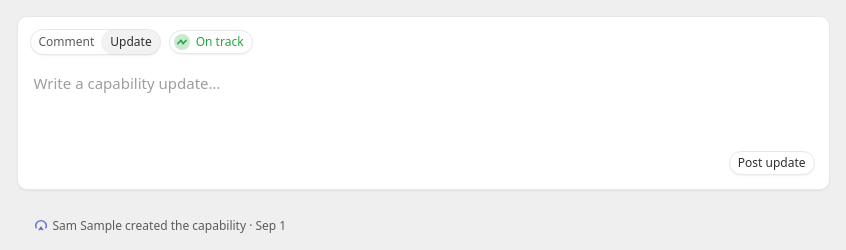
Scenario: a capability's placeholder is 'Write a capability update…'
Check: the text box labelled "capability update" is shown, box [18,67,828,137]
Click the tab "Comment" at coordinates (66, 42), box [30,30,102,54]
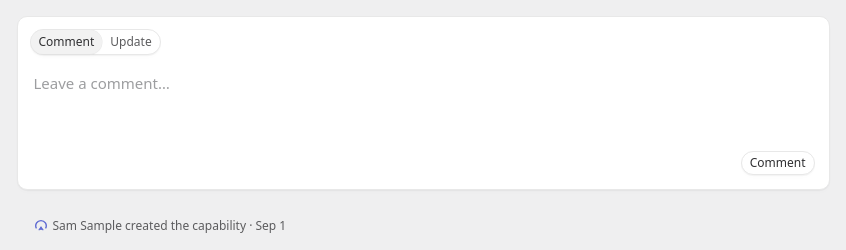
Check: the text box named "Capability comment" is shown, box [18,67,828,137]
